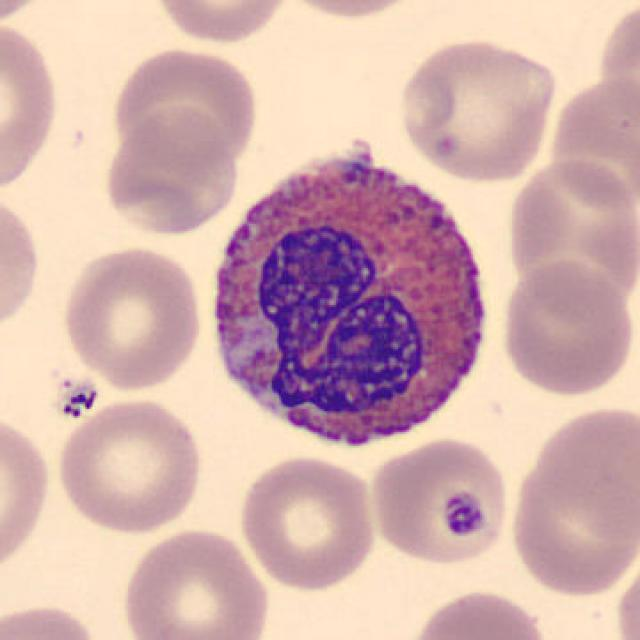Eosinophil: (194, 127, 503, 464)
Platelets: (431, 481, 498, 542), (50, 375, 105, 423)
RBC: (505, 398, 640, 602), (395, 34, 560, 185), (57, 242, 206, 393), (52, 393, 208, 536), (505, 154, 638, 318), (234, 452, 380, 592), (496, 257, 636, 398), (366, 433, 512, 568), (107, 44, 261, 169), (100, 104, 243, 238), (117, 523, 273, 640), (544, 68, 638, 218), (0, 14, 62, 198), (0, 407, 55, 580), (404, 585, 554, 640), (148, 0, 294, 46), (0, 186, 44, 338), (0, 599, 105, 640), (274, 0, 430, 21), (612, 543, 638, 640), (0, 0, 60, 26)
